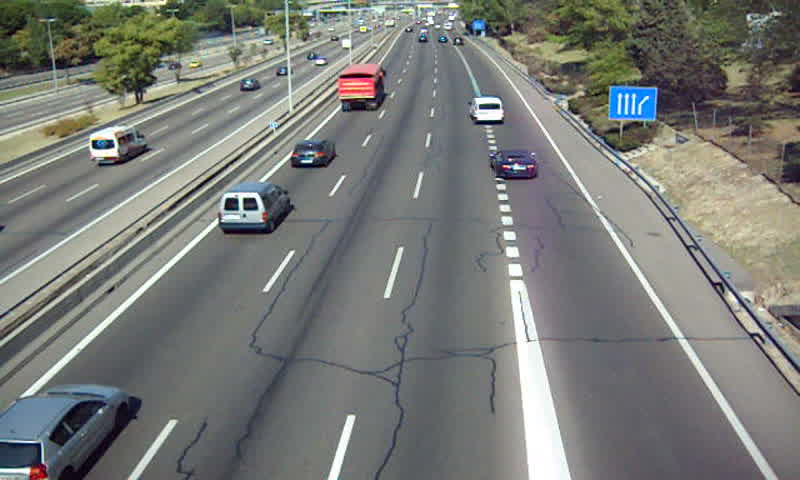car: (1, 384, 130, 479), (492, 149, 541, 180), (289, 139, 335, 169)
truck: (338, 65, 385, 111)
van: (218, 183, 290, 234), (468, 97, 503, 122)
